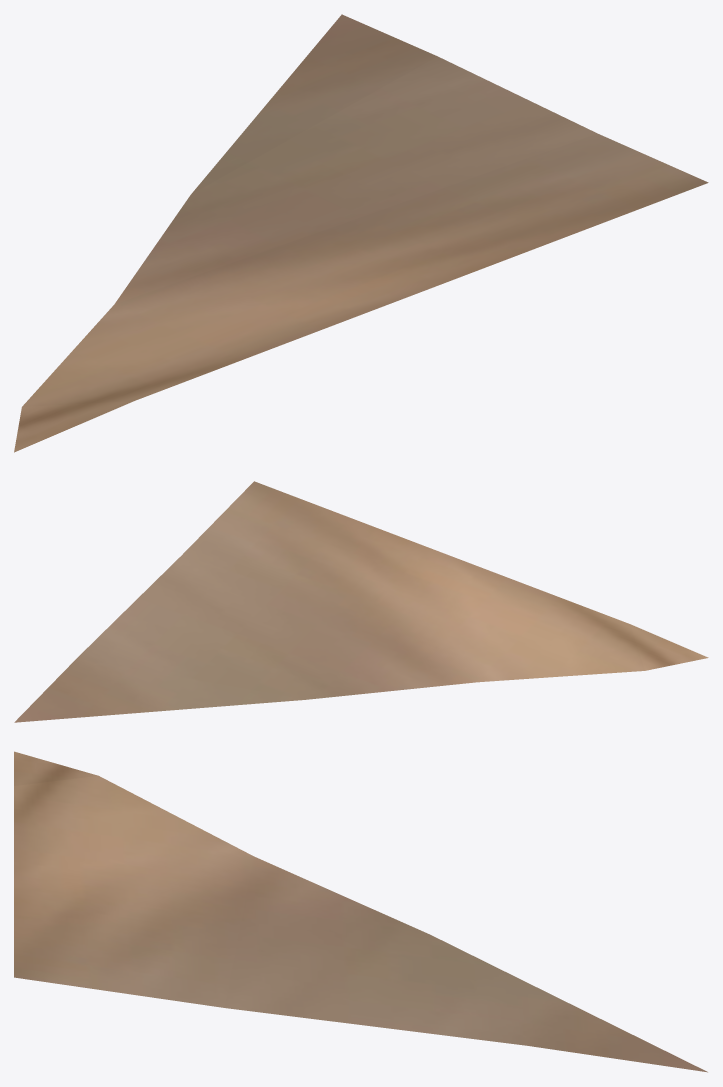
The picture shows the model from 3 angles, top to bottom: view 1: azimuth 30°, elevation 25°; view 2: azimuth 150°, elevation 25°; view 3: azimuth 270°, elevation 25°; orthographic projection. The views are drawn at different scales.
Bounding box in the file's own units: 0.2776 × 0.0383 × 0.2539.
Materials: 1 (1 with a texture image).
